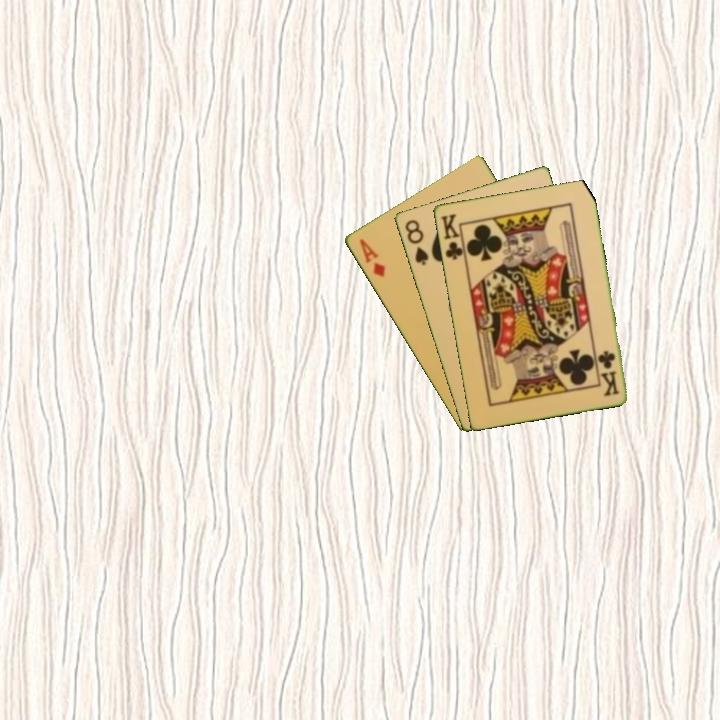8s: (401, 216, 431, 268)
Ad: (355, 235, 388, 280)
Kc: (437, 210, 468, 263), (595, 347, 622, 399)
